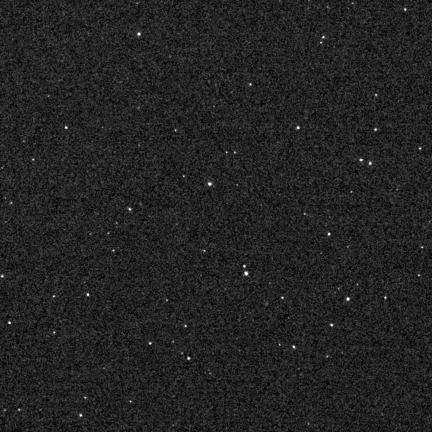blob: (128, 208, 133, 212), (346, 297, 350, 301), (149, 342, 153, 346), (187, 357, 191, 361), (297, 126, 301, 130), (374, 128, 378, 132), (79, 414, 83, 418), (369, 162, 373, 166), (9, 321, 12, 325), (249, 83, 252, 87), (328, 233, 331, 237), (360, 159, 364, 162), (244, 272, 248, 275), (243, 265, 246, 268), (185, 325, 188, 328), (384, 297, 387, 300), (138, 33, 141, 36), (293, 346, 296, 349), (87, 293, 89, 296), (330, 324, 333, 326), (65, 126, 67, 129)
